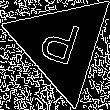P_S: (37, 15, 86, 75)
